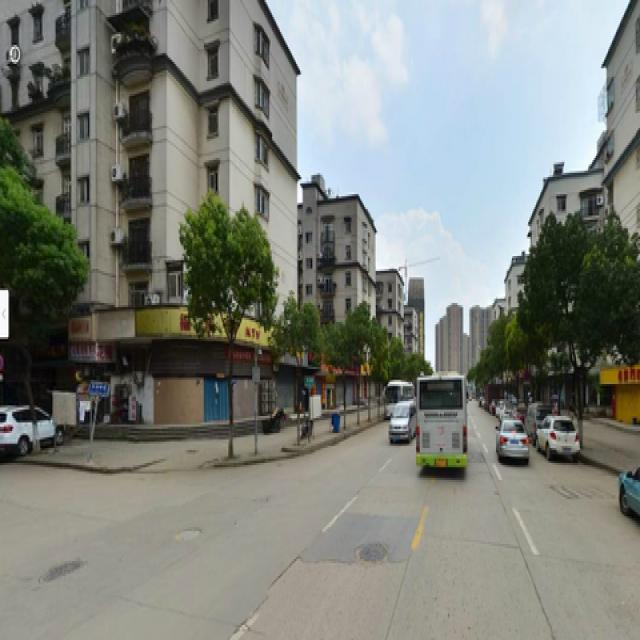cinn: (548, 232, 619, 438), (194, 209, 254, 450)
